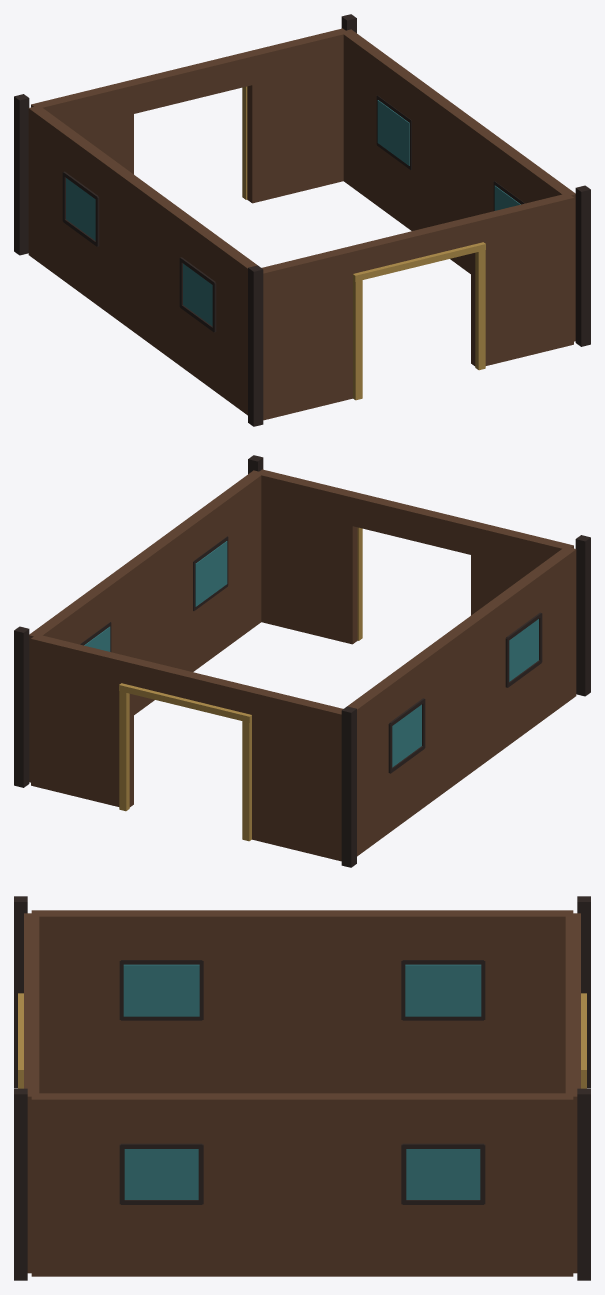
The model's file is PirateCove_CaptainsCabin_Simple.glb.
3 renders of one model, top to bottom at view 1: azimuth 30°, elevation 25°; view 2: azimuth 150°, elevation 25°; view 3: azimuth 270°, elevation 25°, orthographic. The views are drawn at different scales.
Parts seen in each view (by area): view 1: PirateCove_CaptainsCabin_Simple; view 2: PirateCove_CaptainsCabin_Simple; view 3: PirateCove_CaptainsCabin_Simple.
Boxes of the visible parts, x1,y1,x2,y2 form: PirateCove_CaptainsCabin_Simple: (14,14,590,426); PirateCove_CaptainsCabin_Simple: (14,455,590,867); PirateCove_CaptainsCabin_Simple: (14,896,590,1280).
Bounding box in the file's own units: 8.65 × 3.8 × 10.65.
